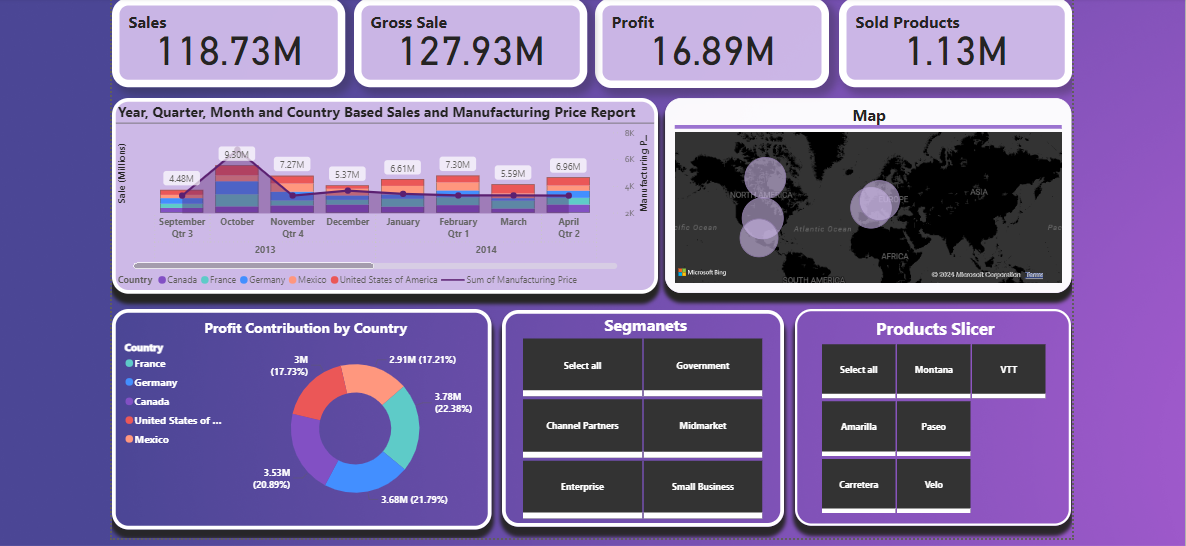

The dashboard page shown, as its layout file describes it:
{"tool":"powerbi","page":{"name":"Page 1","canvas":[1280,720],"ordinal":0},"visuals":[{"type":"card","title":"Sales","fields":{"Values":["Sum(financials. Sales)"]},"box":[0,0,311.1,119.4],"z":0},{"type":"card","title":"Profit","fields":{"Values":["Sum(financials.Profit)"]},"box":[644.1,0,312.4,119.7],"z":1000},{"type":"card","title":"Gross Sale","fields":{"Values":["Sum(financials.Gross Sales)"]},"box":[322.5,0,310.8,119.3],"z":2000},{"type":"card","title":"Sold Products","fields":{"Values":["Sum(financials.Units Sold)"]},"box":[969.4,0,311.1,119.4],"z":3000},{"type":"map","title":"Map","fields":{"Category":["financials.Country"],"Size":["Sum(financials. Sales)"]},"box":[737.7,133.5,542.3,260.1],"z":4000},{"type":"lineStackedColumnComboChart","title":"Year, Quarter, Month and Country Based Sales and Manufacturing Price Report","fields":{"Y":["Sum(financials. Sales)"],"Series":["financials.Country"],"Category":["financials.Date.Variation.Date Hierarchy.Year","financials.Date.Variation.Date Hierarchy.Quarter","financials.Date.Variation.Date Hierarchy.Month"],"Y2":["Sum(financials.Manufacturing Price)"]},"box":[0,133.3,727.6,260.9],"z":4001},{"type":"donutChart","title":"Profit Contribution by Country","fields":{"Y":["Sum(financials.Profit)"],"Category":["financials.Country"]},"box":[0,414.3,506.3,293.7],"z":4002},{"type":"slicer","title":"Segmanets","fields":{"Values":["financials.Segment"]},"box":[520.6,415.9,376.2,288.9],"z":4003},{"type":"slicer","title":"Products Slicer","fields":{"Values":["financials.Product"]},"box":[911.1,414.3,368.3,288.9],"z":4004}]}

Visuals, with their boxes in screenshot pixels (x1, y1, x2, y2):
"Sales" card: [108,0,341,86]
"Profit" card: [590,0,824,87]
"Gross Sale" card: [350,0,582,86]
"Sold Products" card: [834,0,1067,86]
"Map" map: [660,97,1067,292]
"Year, Quarter, Month and Country Based Sales and Manufacturing Price Report" lineStackedColumnComboChart: [108,97,653,292]
"Profit Contribution by Country" donutChart: [108,307,487,527]
"Segmanets" slicer: [498,308,780,525]
"Products Slicer" slicer: [790,307,1066,523]
